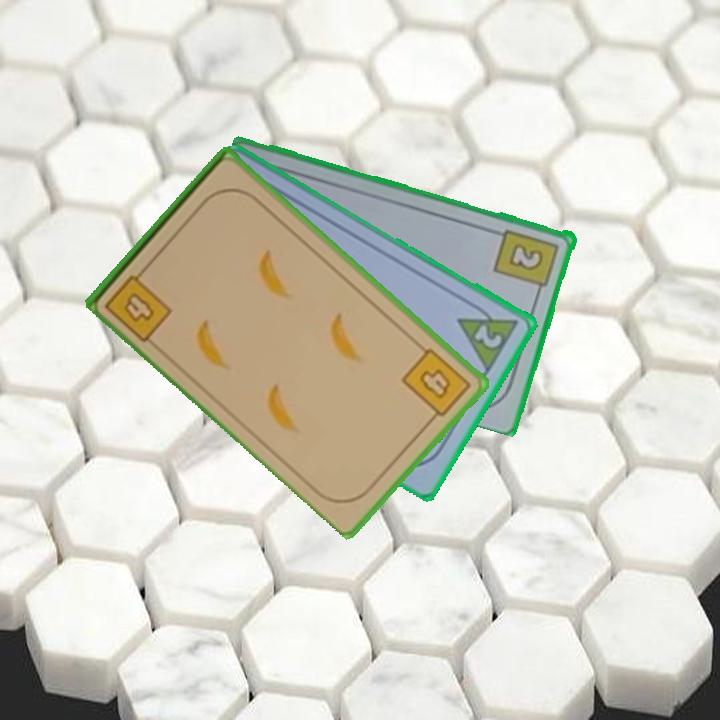2b: (491, 225, 562, 298)
2p: (454, 297, 522, 375)
4b: (397, 344, 474, 426), (101, 262, 176, 345)
